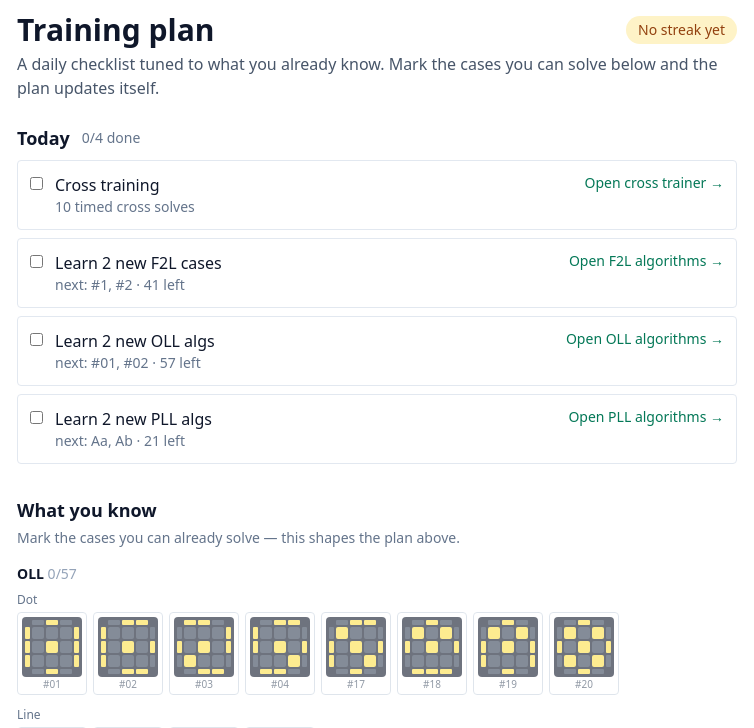
Test: TrainingPlan › marking an OLL known updates the count and persists as pressed
Check: the text with test id "oll-count" reads "0/57", box [48,564,77,583]
Click the button named "OLL 01": [52, 654] box [17,612,87,695]
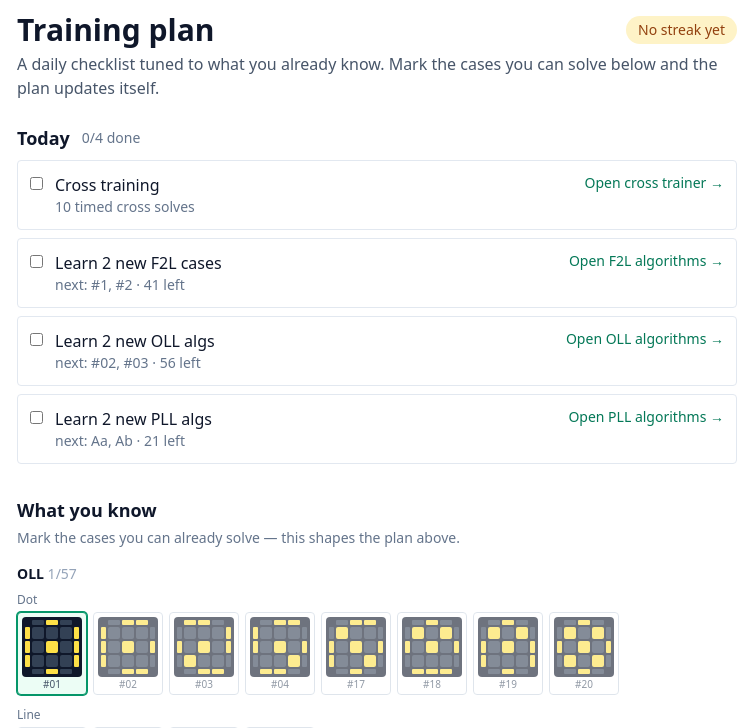
Check: the text with test id "oll-count" reads "1/57", box [48,564,77,583]
